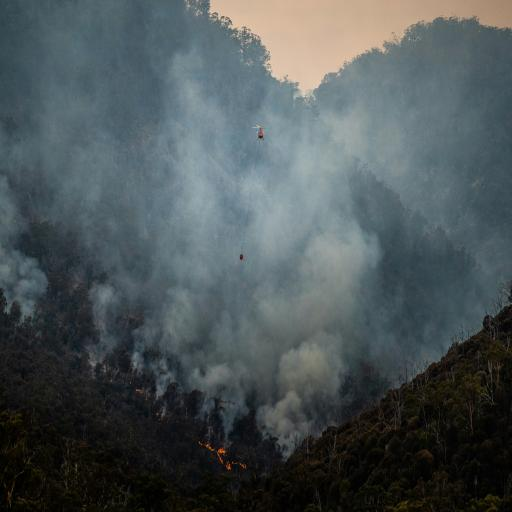smoke: (18, 2, 406, 260)
wildfire: (9, 276, 401, 512)
